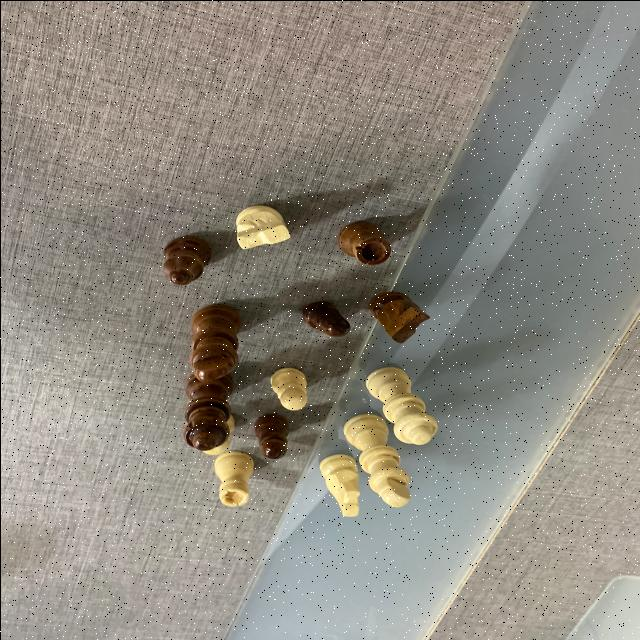Black-Bishop: (160, 234, 212, 284)
Black-King: (186, 304, 242, 382)
Black-Knight: (366, 288, 428, 342)
Black-Pawn: (301, 300, 351, 338), (252, 412, 290, 458)
Black-Queen: (180, 369, 234, 449)
Black-Rook: (334, 218, 392, 264)
White-King: (342, 412, 412, 508)
White-Knight: (318, 452, 360, 516), (233, 204, 288, 248)
White-Pawn: (268, 364, 308, 410), (198, 412, 235, 456)
White-Queen: (364, 365, 436, 445)
White-Rook: (211, 450, 255, 507)
